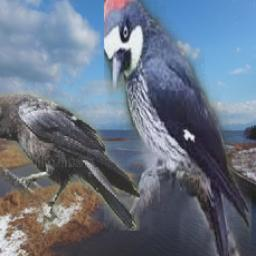Crow: (0, 92, 140, 232)
Woodpecker: (104, 0, 252, 256)
